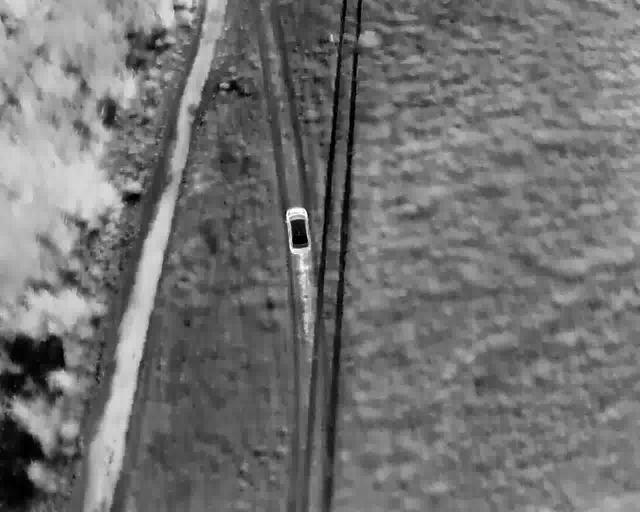car: (303, 23, 323, 57)
